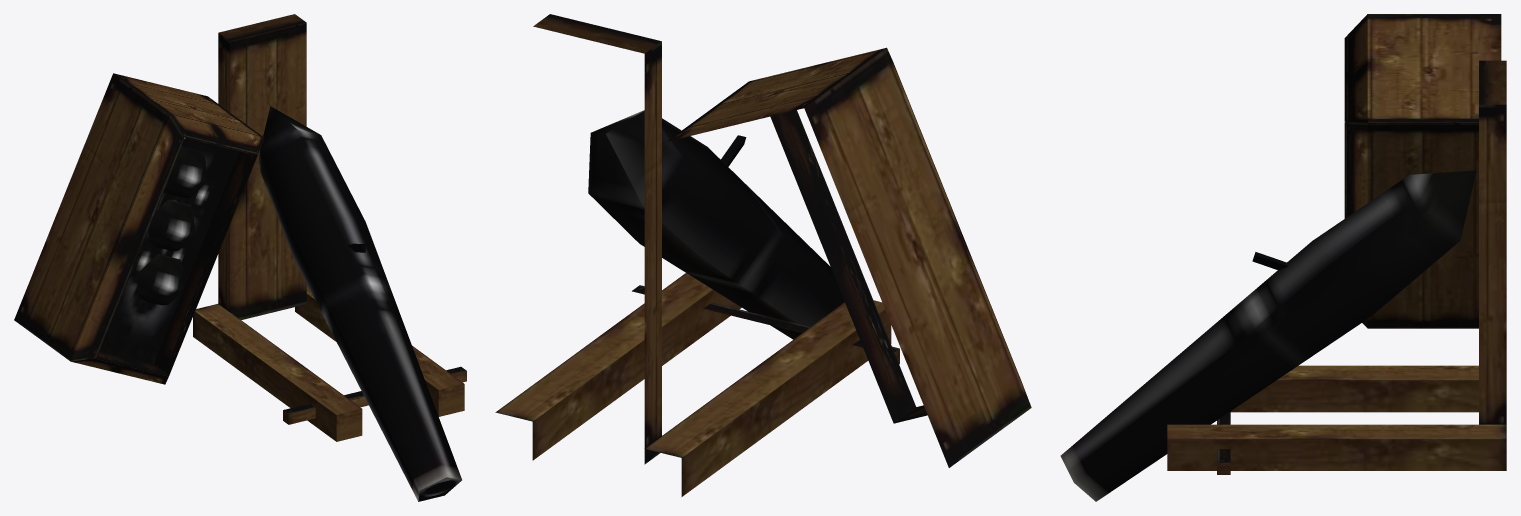
The model's file is Cannon02.glb.
3 views of the same model, side by side, from view 1: azimuth 30°, elevation 25°; view 2: azimuth 150°, elevation 25°; view 3: azimuth 270°, elevation 25° (orthographic). The views are drawn at different scales.
Parts seen in each view (by area): view 1: model_Cannon02; view 2: model_Cannon02; view 3: model_Cannon02.
Boxes of the visible parts, x1=… form: model_Cannon02: x1=14, y1=14, x2=466, y2=501; model_Cannon02: x1=495, y1=14, x2=1031, y2=496; model_Cannon02: x1=1060, y1=14, x2=1506, y2=501.
Bounding box in the file's own units: 1.35 × 1.36 × 1.33.
1 material, 1 textured.
